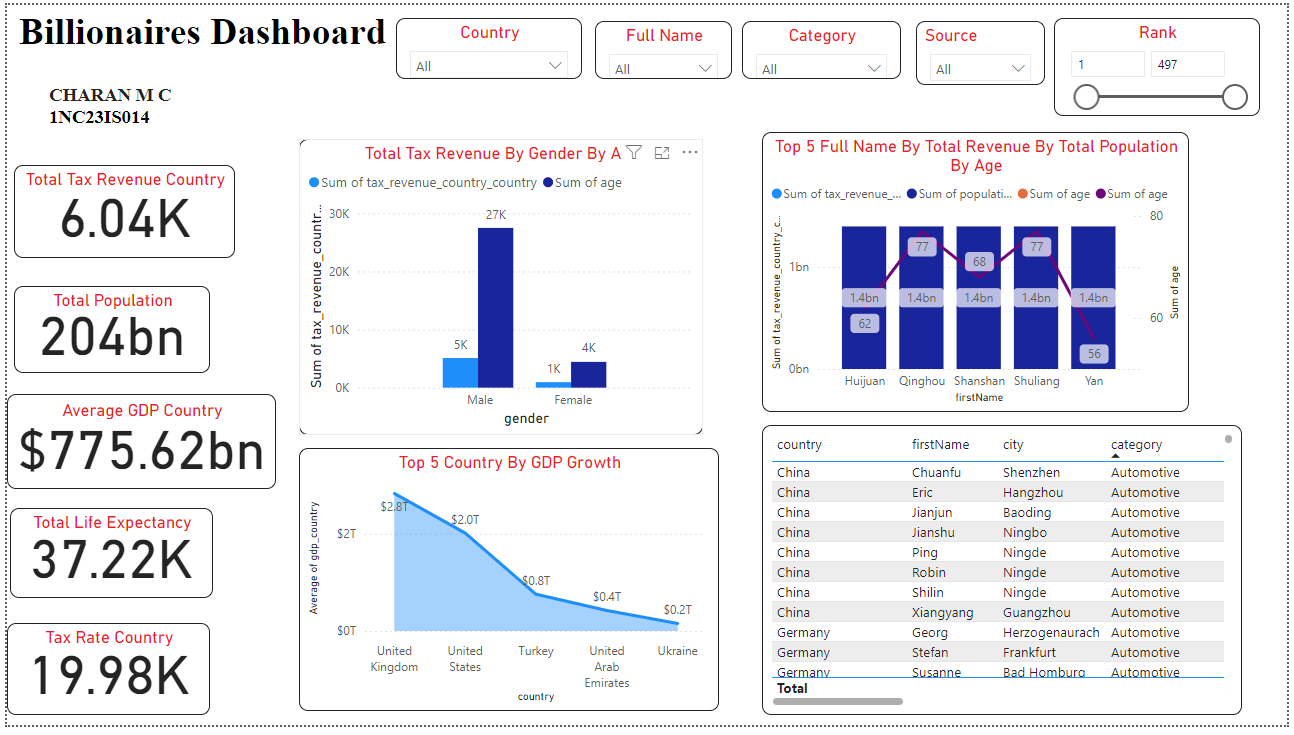

What the dashboard file says about the page in this screenshot:
{"tool":"powerbi","page":{"name":"Page 1","canvas":[1280,720],"ordinal":0},"visuals":[{"type":"card","title":"Total Tax Revenue Country","fields":{"Values":["Sum(Billionaires Statistics Dataset - Billionaires Statistics Dataset.tax_revenue_country_country)"]},"box":[7,160,221,93],"z":0},{"type":"card","title":"Total Population","fields":{"Values":["Sum(Billionaires Statistics Dataset - Billionaires Statistics Dataset.population_country)"]},"box":[7,281,196,87],"z":1000},{"type":"card","title":"Average GDP Country","fields":{"Values":["Avg(Billionaires Statistics Dataset - Billionaires Statistics Dataset.gdp_country)"]},"box":[0,389,269,95],"z":2000},{"type":"card","title":"Total Life Expectancy","fields":{"Values":["Sum(Billionaires Statistics Dataset - Billionaires Statistics Dataset.life_expectancy_country)"]},"box":[3,503,203,90],"z":3000},{"type":"card","title":"Tax Rate Country","fields":{"Values":["Sum(Billionaires Statistics Dataset - Billionaires Statistics Dataset.total_tax_rate_country)"]},"box":[0,618,203,92],"z":4000},{"type":"textbox","box":[7,0,603,74],"z":5000},{"type":"slicer","title":"Country","fields":{"Values":["Billionaires Statistics Dataset - Billionaires Statistics Dataset.country"]},"box":[389,13,186,61],"z":6000},{"type":"slicer","title":"Full Name","fields":{"Values":["Billionaires Statistics Dataset - Billionaires Statistics Dataset.firstName"]},"box":[588,16,137,58],"z":7000},{"type":"slicer","title":"Category","fields":{"Values":["Billionaires Statistics Dataset - Billionaires Statistics Dataset.category"]},"box":[735,16,159,58],"z":8000},{"type":"slicer","title":"Source","fields":{"Values":["Billionaires Statistics Dataset - Billionaires Statistics Dataset.source"]},"box":[909,16,129,64],"z":9000},{"type":"slicer","title":"Rank","fields":{"Values":["Billionaires Statistics Dataset - Billionaires Statistics Dataset.rank"]},"box":[1047,13,206,98],"z":10000},{"type":"clusteredColumnChart","title":"Total Tax Revenue By Gender By Age","fields":{"Y":["Sum(Billionaires Statistics Dataset - Billionaires Statistics Dataset.tax_revenue_country_country)","Sum(Billionaires Statistics Dataset - Billionaires Statistics Dataset.age)"],"Category":["Billionaires Statistics Dataset - Billionaires Statistics Dataset.gender"]},"box":[292,134,404,296],"z":11000},{"type":"tableEx","fields":{"Values":["Billionaires Statistics Dataset - Billionaires Statistics Dataset.country","Billionaires Statistics Dataset - Billionaires Statistics Dataset.firstName","Billionaires Statistics Dataset - Billionaires Statistics Dataset.city","Billionaires Statistics Dataset - Billionaires Statistics Dataset.category","Billionaires Statistics Dataset - Billionaires Statistics Dataset.source","Billionaires Statistics Dataset - Billionaires Statistics Dataset.gender","Sum(Billionaires Statistics Dataset - Billionaires Statistics Dataset.tax_revenue_country_country)","Sum(Billionaires Statistics Dataset - Billionaires Statistics Dataset.total_tax_rate_country)","Avg(Billionaires Statistics Dataset - Billionaires Statistics Dataset.gdp_country)","Sum(Billionaires Statistics Dataset - Billionaires Statistics Dataset.population_country)","Sum(Billionaires Statistics Dataset - Billionaires Statistics Dataset.age)"]},"box":[755,420,480,290],"z":12000},{"type":"areaChart","title":"Top 5 Country By GDP Growth","fields":{"Category":["Billionaires Statistics Dataset - Billionaires Statistics Dataset.country"],"Y":["Avg(Billionaires Statistics Dataset - Billionaires Statistics Dataset.gdp_country)"]},"box":[292,443,420,263],"z":13000},{"type":"textbox","box":[37,74,169,60],"z":14000},{"type":"lineStackedColumnComboChart","title":"Top 5 Full Name By Total Revenue By Total Population By Age","fields":{"Category":["Billionaires Statistics Dataset - Billionaires Statistics Dataset.firstName"],"Y":["Sum(Billionaires Statistics Dataset - Billionaires Statistics Dataset.tax_revenue_country_country)","Sum(Billionaires Statistics Dataset - Billionaires Statistics Dataset.population_country)","Sum(Billionaires Statistics Dataset - Billionaires Statistics Dataset.age)"],"Y2":["Sum(Billionaires Statistics Dataset - Billionaires Statistics Dataset.age)"]},"box":[755,127,427,280],"z":15000}]}

Visuals, with their boxes in screenshot pixels (x1, y1, x2, y2), scaled from the page's 1280x720 canvas onto the 1294x735 screenshot:
"Total Tax Revenue Country" card: 7,163,230,258
"Total Population" card: 7,287,205,376
"Average GDP Country" card: 0,397,272,494
"Total Life Expectancy" card: 3,513,208,605
"Tax Rate Country" card: 0,631,205,725
textbox: 7,0,617,76
"Country" slicer: 393,13,581,76
"Full Name" slicer: 594,16,733,76
"Category" slicer: 743,16,904,76
"Source" slicer: 919,16,1049,82
"Rank" slicer: 1058,13,1267,113
"Total Tax Revenue By Gender By Age" clusteredColumnChart: 295,137,704,439
tableEx - Billionaires Statistics Dataset - Billionaires Statistics Dataset.country x Billionaires Statistics Dataset - Billionaires Statistics Dataset.firstName: 763,429,1249,725
"Top 5 Country By GDP Growth" areaChart: 295,452,720,721
textbox: 37,76,208,137
"Top 5 Full Name By Total Revenue By Total Population By Age" lineStackedColumnComboChart: 763,130,1195,415
